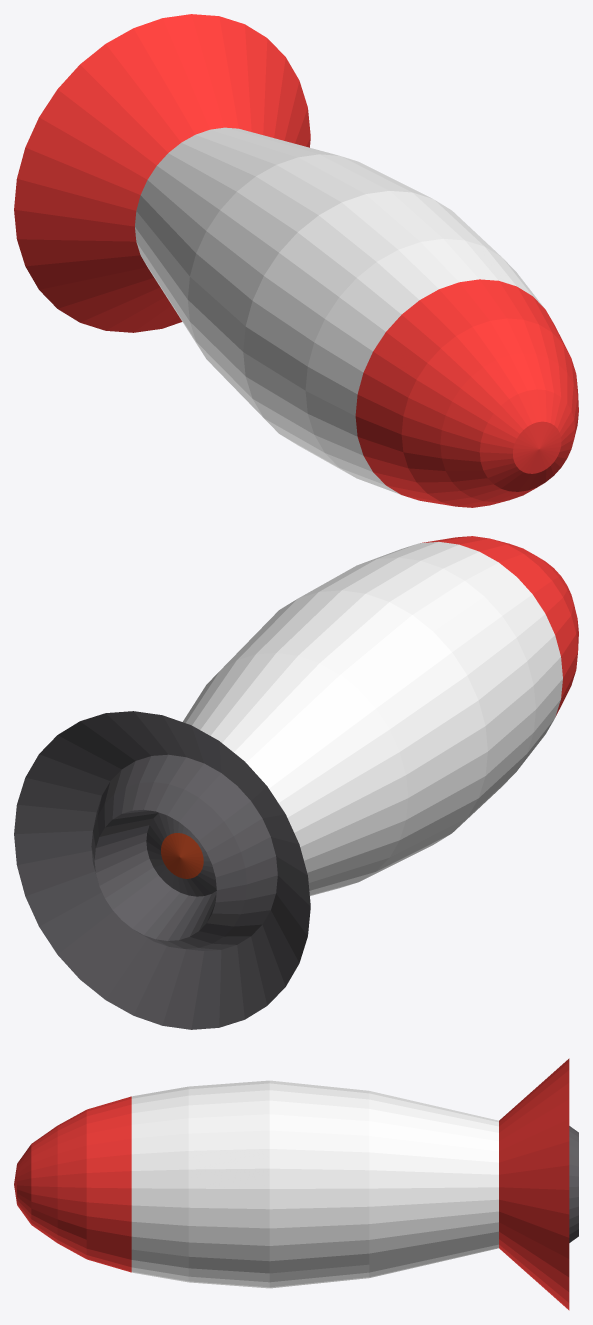
File: missile.obj
The picture shows the model from 3 angles, top to bottom: view 1: azimuth 30°, elevation 25°; view 2: azimuth 150°, elevation 25°; view 3: azimuth 270°, elevation 25°; orthographic projection. The views are drawn at different scales.
Visible parts, largest first — view 1: 球; view 2: 球; view 3: 球.
Boxes of the visible parts, box(x1,y1,x2,y2) form: 球: box(14, 14, 578, 507); 球: box(14, 536, 578, 1029); 球: box(14, 1058, 578, 1310).
Bounding box in the file's own units: 1.59 × 1.59 × 3.55.
1 material, 1 textured.
